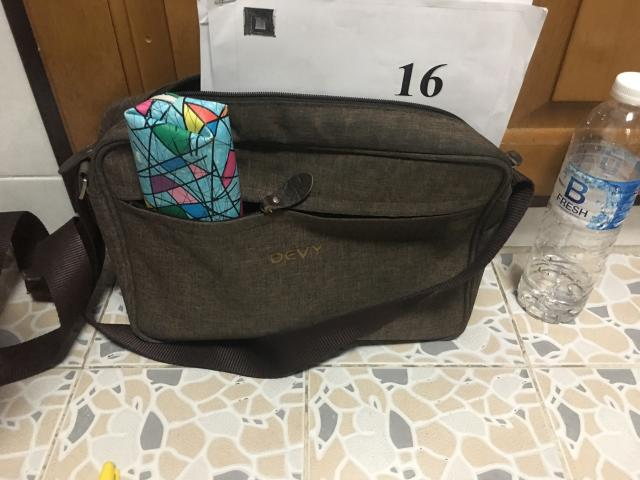bottle: (518, 72, 640, 322)
paper: (198, 0, 546, 146)
